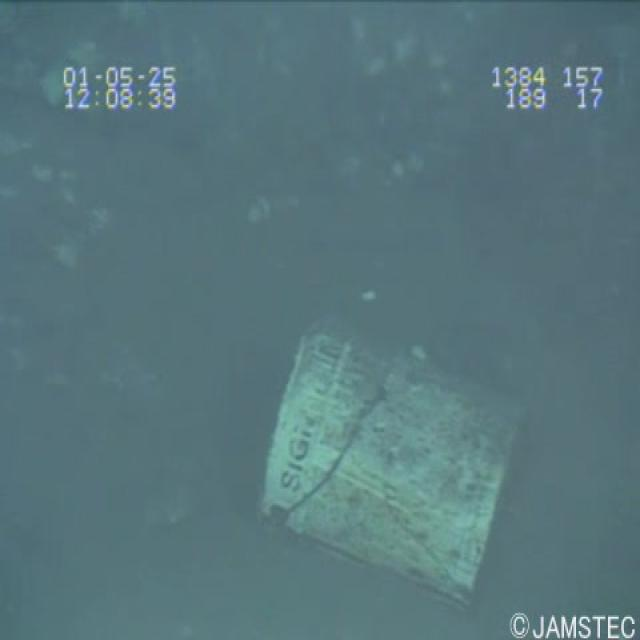plastic: (238, 310, 534, 620)
